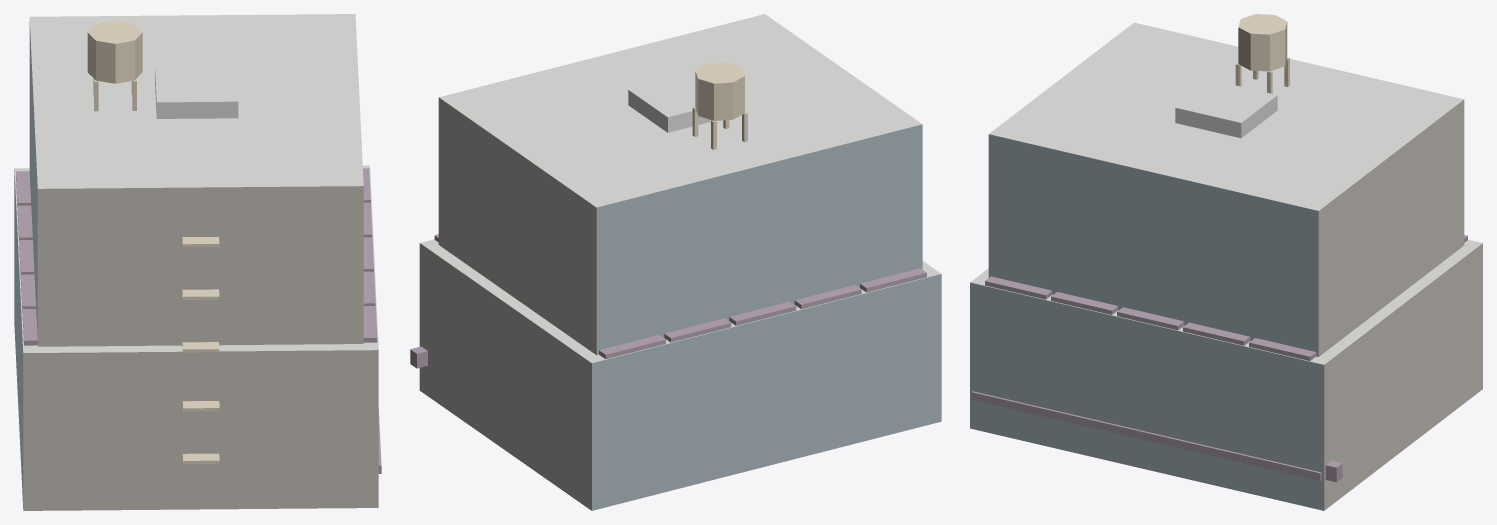
Rendered from doitt-147902__lod_1.glb.
3 renders of one model, left to right at view 1: azimuth 30°, elevation 25°; view 2: azimuth 150°, elevation 25°; view 3: azimuth 270°, elevation 25°, orthographic. The views are drawn at different scales.
Size of the model in its own units: 34.47 by 27.86 by 36.31.
